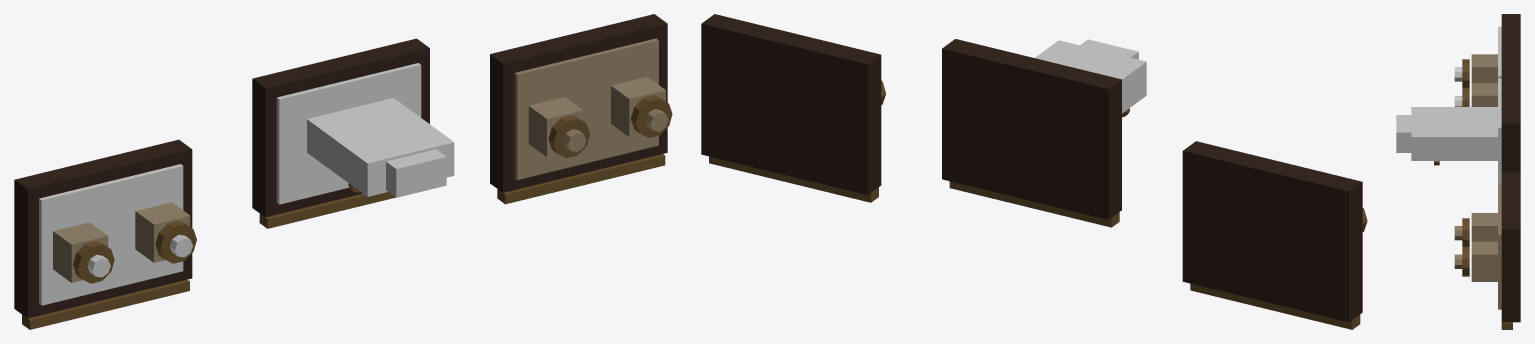
The model's file is SM_BSW_CaseGoods_Jewelry_B.obj.
3 renders of one model, left to right at view 1: azimuth 30°, elevation 25°; view 2: azimuth 150°, elevation 25°; view 3: azimuth 270°, elevation 25°, orthographic. The views are drawn at different scales.
Visible parts, largest first — view 1: SM_BSW_CaseGoods_Jewelry_B; view 2: SM_BSW_CaseGoods_Jewelry_B; view 3: SM_BSW_CaseGoods_Jewelry_B.
Part boxes in pixels (left/top/right/bottom): SM_BSW_CaseGoods_Jewelry_B: left=14, top=14, right=672, bottom=329; SM_BSW_CaseGoods_Jewelry_B: left=701, top=14, right=1367, bottom=329; SM_BSW_CaseGoods_Jewelry_B: left=1396, top=14, right=1520, bottom=329.
Size of the model in its own units: 140 by 38.5 by 33.
